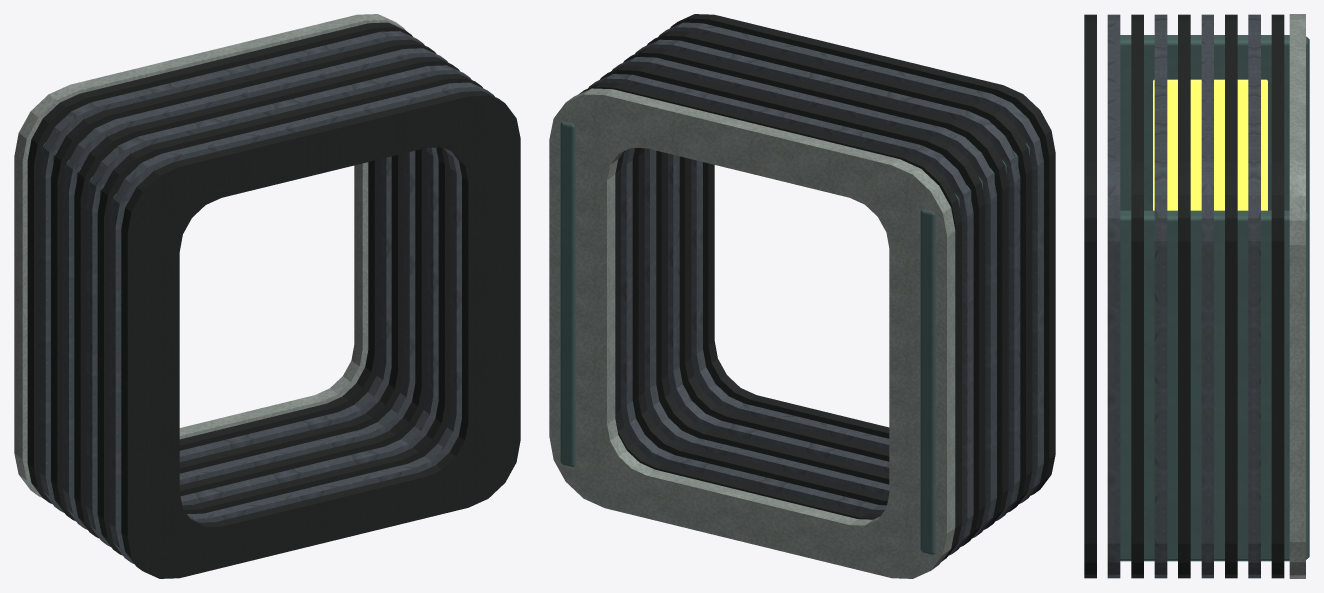
The model's file is bridge.fbx.
3 views of the same model, side by side, from view 1: azimuth 30°, elevation 25°; view 2: azimuth 150°, elevation 25°; view 3: azimuth 270°, elevation 25° (orthographic).
Parts seen in each view (by area): view 1: SM_anchor_bridge; view 2: SM_anchor_bridge; view 3: SM_anchor_bridge.
Part boxes in pixels (bbox=[...]): SM_anchor_bridge: bbox=[14, 14, 520, 578]; SM_anchor_bridge: bbox=[549, 14, 1055, 578]; SM_anchor_bridge: bbox=[1084, 14, 1309, 578].
Bounding box in the file's own units: 2.55 × 2.53 × 1.25.
5 materials, 4 textured.
